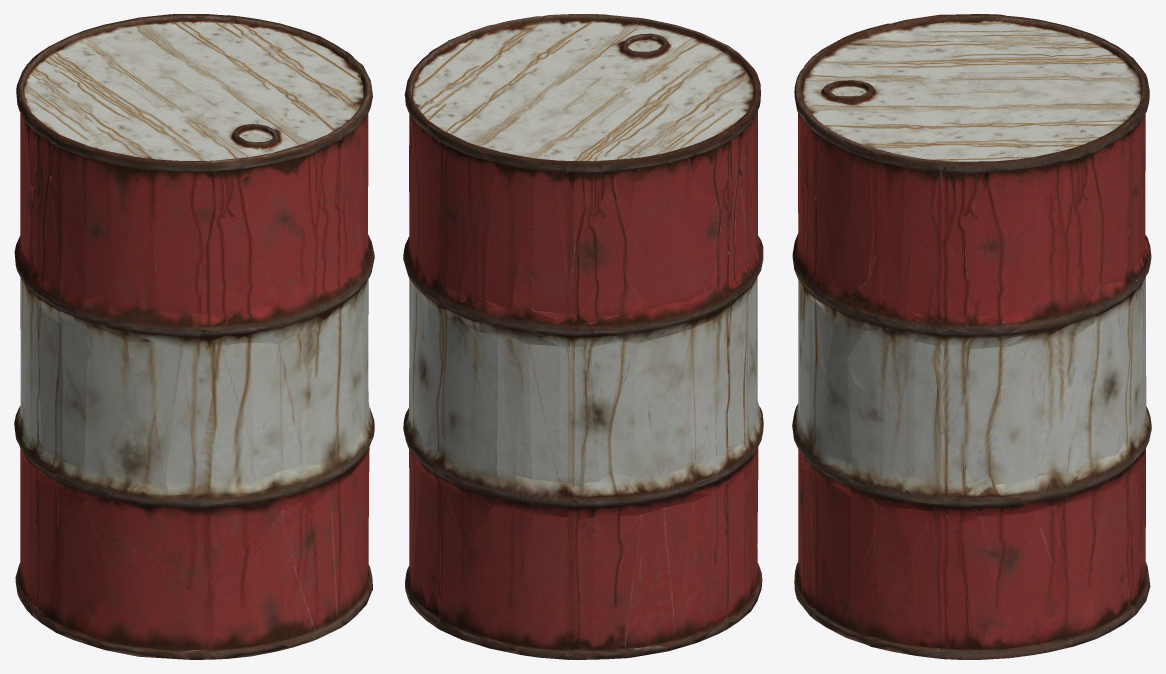
The model's file is barrel_striped.glb.
3 renders of one model, left to right at view 1: azimuth 30°, elevation 25°; view 2: azimuth 150°, elevation 25°; view 3: azimuth 270°, elevation 25°, orthographic.
Visible parts, largest first — view 1: output_unwrapped; view 2: output_unwrapped; view 3: output_unwrapped.
Part boxes in pixels (bbox=[...]): output_unwrapped: bbox=[14, 14, 374, 659]; output_unwrapped: bbox=[403, 14, 763, 659]; output_unwrapped: bbox=[792, 14, 1151, 659].
Size of the model in its own units: 1.25 by 1.9 by 1.25.
Materials: 1 (1 with a texture image).
